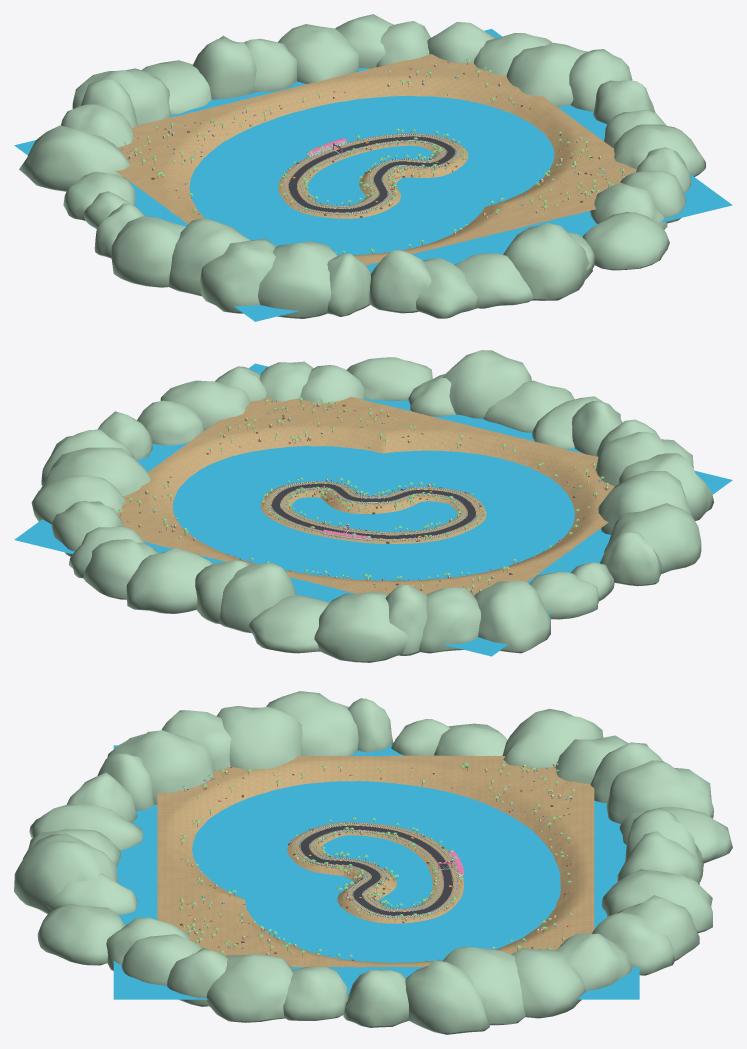
The model's file is playa.glb.
The picture shows the model from 3 angles, top to bottom: view 1: azimuth 30°, elevation 25°; view 2: azimuth 150°, elevation 25°; view 3: azimuth 270°, elevation 25°; orthographic projection. The views are drawn at different scales.
Visible parts, largest first — view 1: C_72ad7f, Water, Ground, Road, C_3fb74c, Rail; view 2: C_72ad7f, Water, Ground, Road, C_3fb74c, Rail; view 3: C_72ad7f, Water, Ground, Road, C_3fb74c, Rail.
Part boxes in pixels (<box>): C_72ad7f: <box>19,14,705,318</box>; Water: <box>14,29,732,321</box>; Ground: <box>115,54,636,265</box>; Road: <box>288,136,455,212</box>; C_3fb74c: <box>123,59,624,252</box>; Rail: <box>284,134,459,214</box>; C_72ad7f: <box>31,350,713,662</box>; Water: <box>14,363,732,656</box>; Ground: <box>117,396,614,596</box>; Road: <box>271,483,476,538</box>; C_3fb74c: <box>118,394,608,590</box>; Rail: <box>267,481,480,540</box>; C_72ad7f: <box>14,691,732,1034</box>; Water: <box>113,745,639,999</box>; Ground: <box>157,755,594,967</box>; Road: <box>299,825,453,915</box>; C_3fb74c: <box>179,762,574,956</box>; Rail: <box>295,823,457,917</box>.
Bounding box in the file's own units: 943 × 84.59 × 928.
42 materials, 8 textured.
